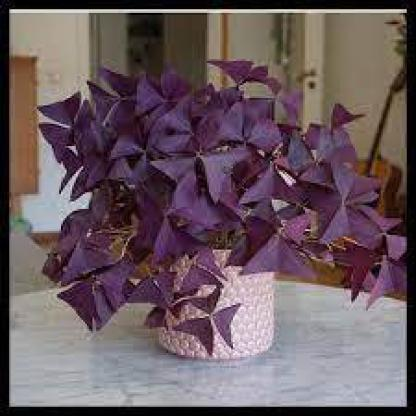Kupu-Kupu: (33, 81, 155, 184), (143, 264, 238, 351), (47, 221, 127, 319), (308, 158, 389, 253), (162, 121, 254, 203)
